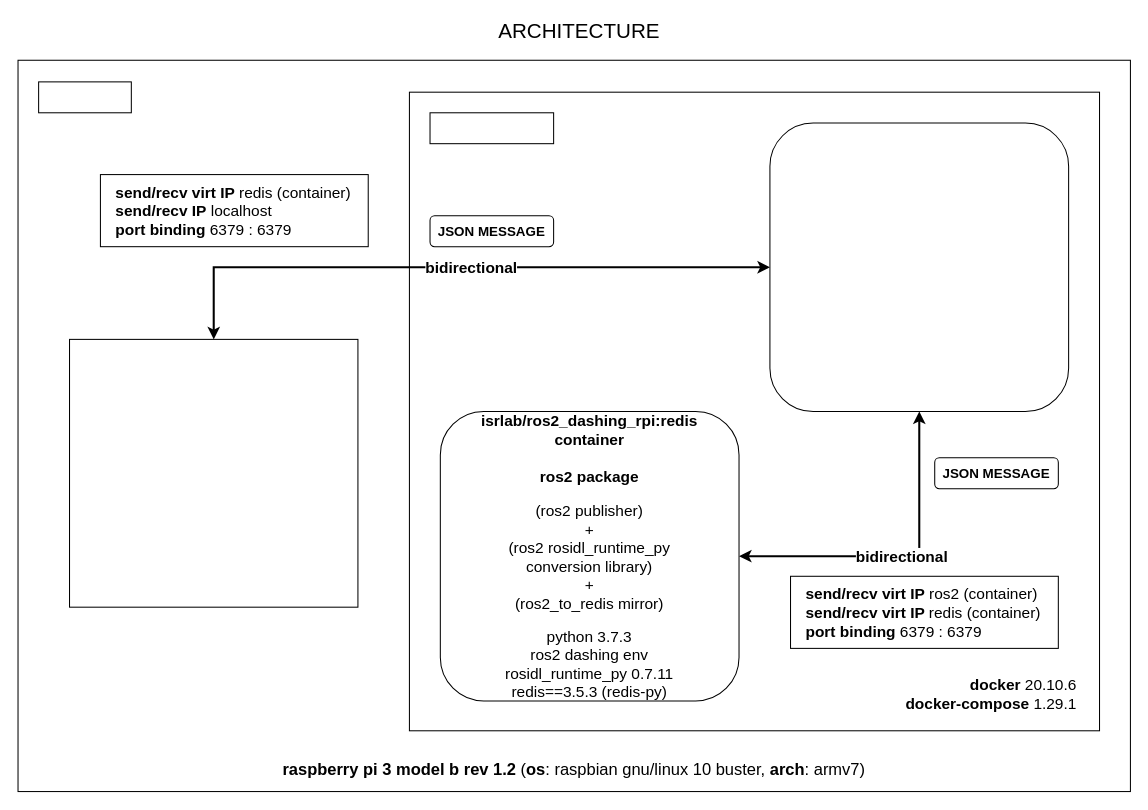
Some shapes in this 1148 by 810 pixel diagram are drawn without their labels. Each missing label, with the box of its shape:
docker: (429, 112, 554, 144)
host: (38, 81, 131, 113)
host python venv (redis mirror) python 3.7.3 redis==3.5.3 (redis-py): (68, 338, 358, 607)
redis:6.2.2-buster container (passthrough) redis 6.2.2: (769, 122, 1069, 411)
